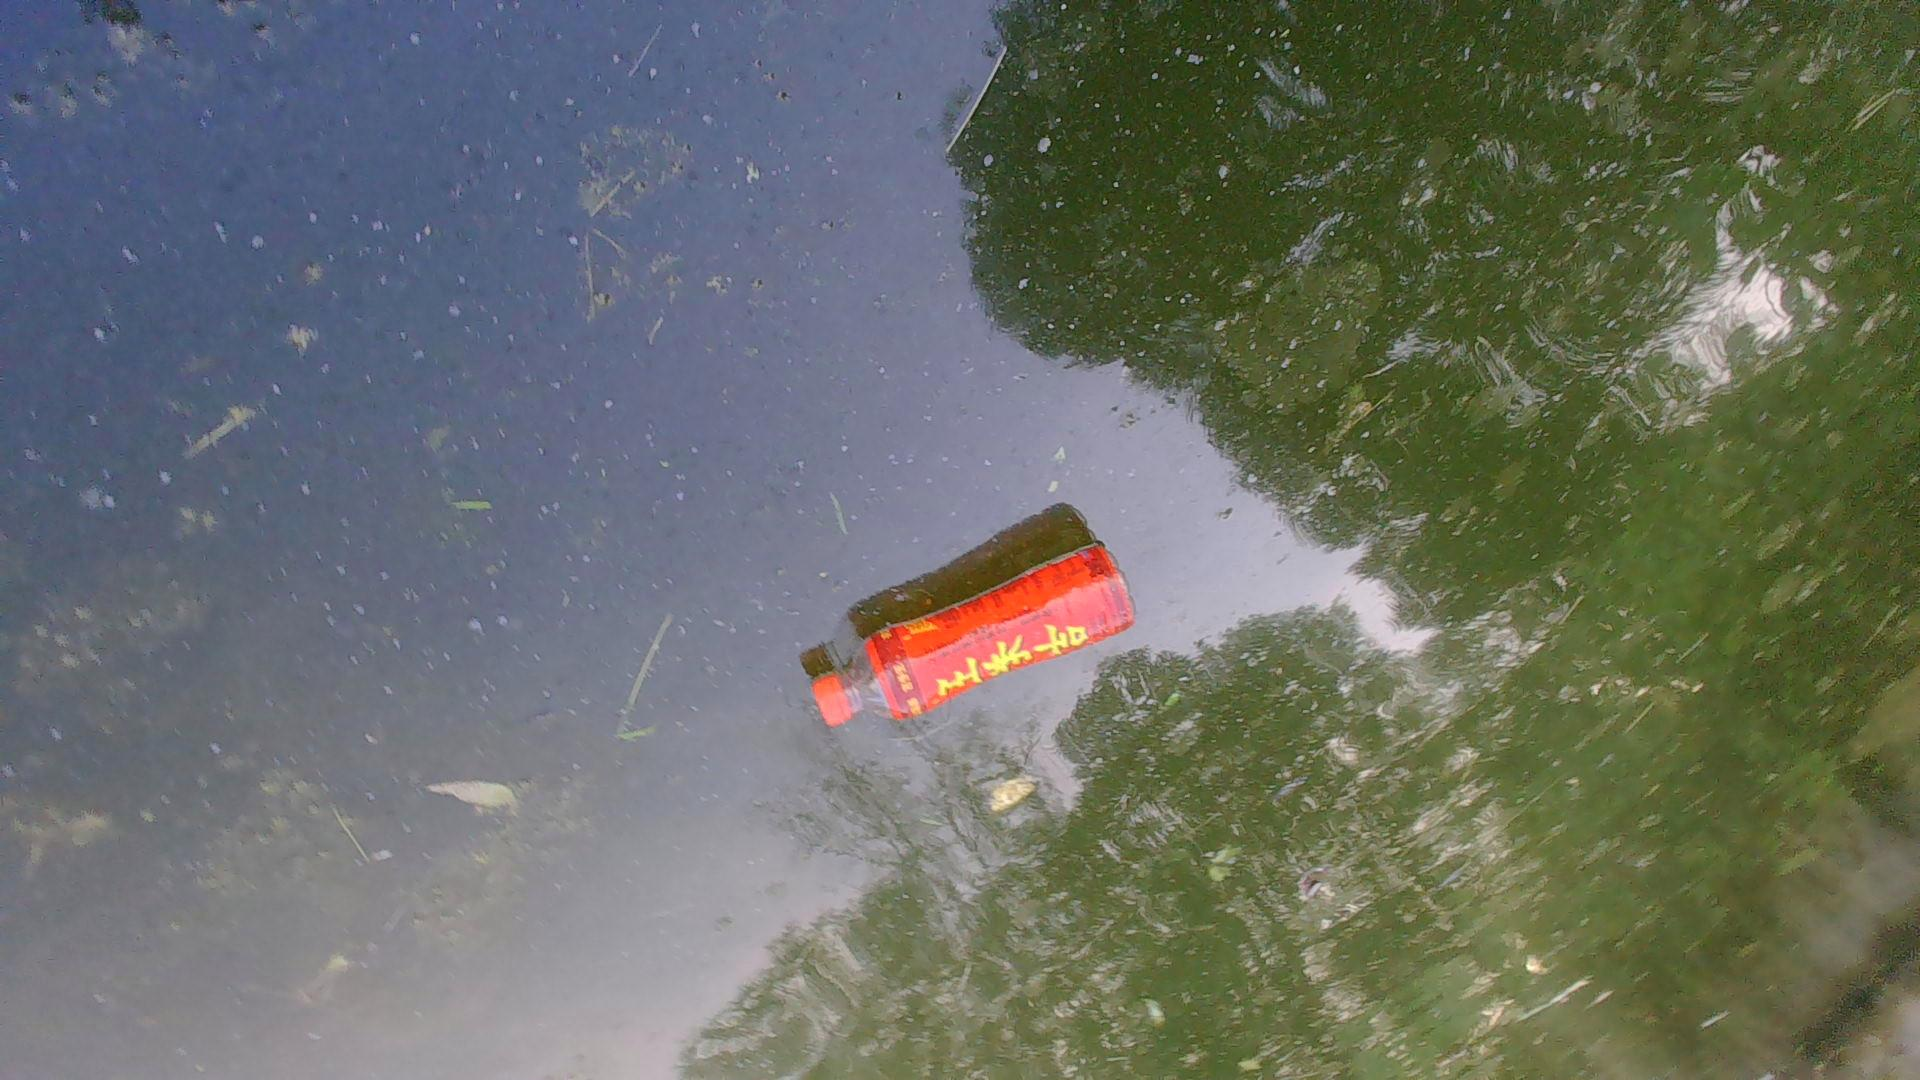Plastic: (796, 534, 1139, 741)
